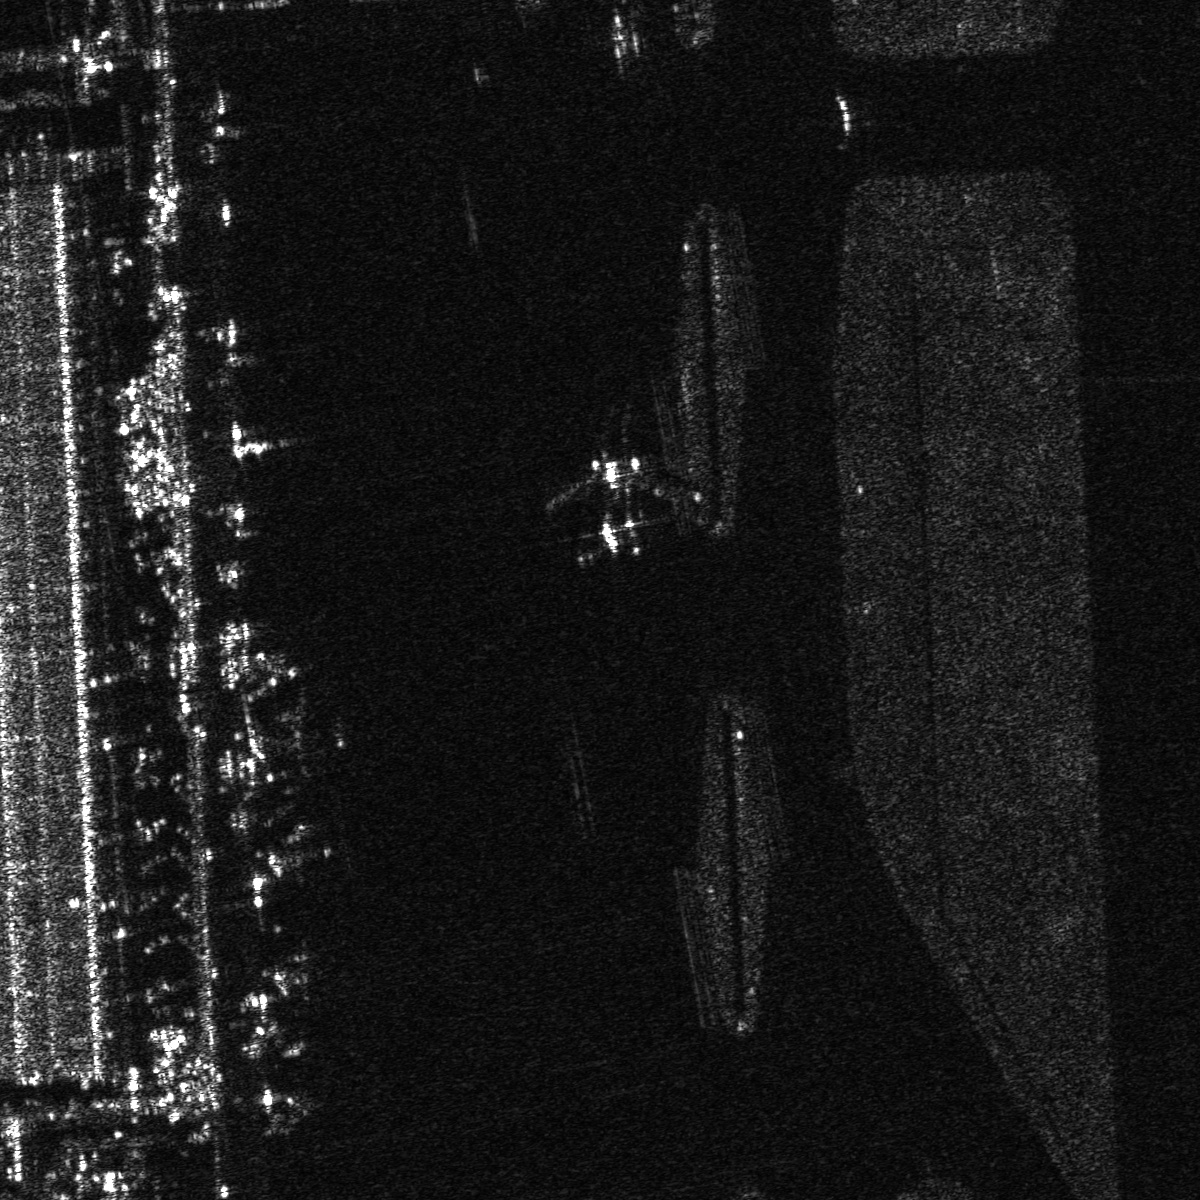A220: (238, 685, 353, 797)
other: (543, 451, 684, 577), (251, 812, 356, 895), (262, 934, 340, 1015)
